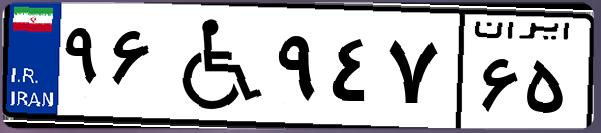4: (330, 28, 385, 110)
5: (525, 38, 570, 115)
6: (475, 38, 525, 113), (110, 28, 158, 98)
7: (385, 28, 445, 110)
9: (270, 28, 330, 110), (57, 26, 110, 100)
ژ (معلولین و جانبازان): (158, 12, 270, 120)
